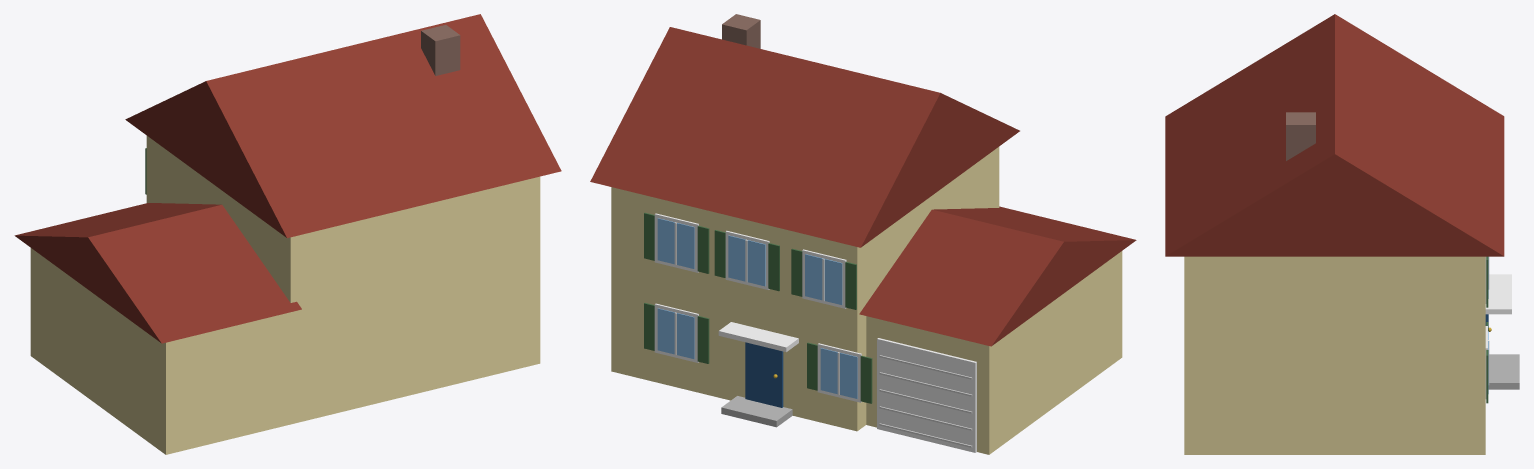
The model's file is house.fbx.
3 renders of one model, left to right at view 1: azimuth 30°, elevation 25°; view 2: azimuth 150°, elevation 25°; view 3: azimuth 270°, elevation 25°, orthographic. The views are drawn at different scales.
Visible parts, largest first — view 1: Suburban House.001; view 2: Suburban House.001; view 3: Suburban House.001.
Part boxes in pixels (x1,y1,x2,y2): Suburban House.001: (14, 14, 561, 454); Suburban House.001: (590, 14, 1136, 454); Suburban House.001: (1165, 14, 1519, 454).
Bounding box in the file's own units: 12.7 × 9.2 × 9.4.
